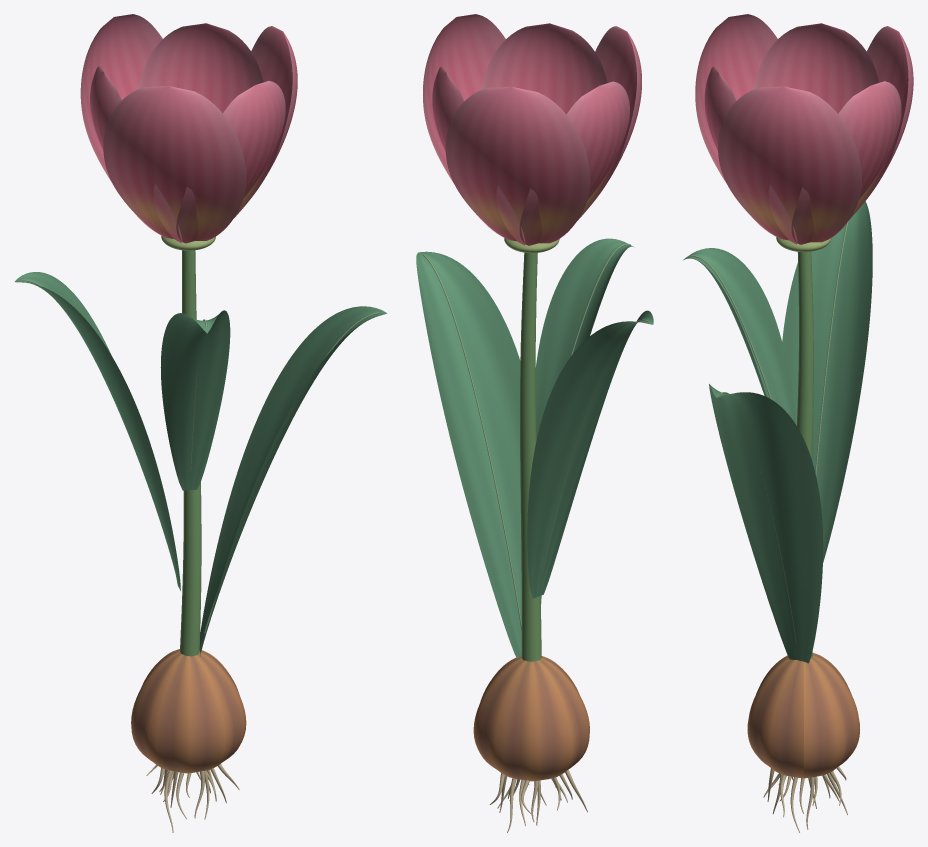
Rendered from tulipan.glb.
3 views of the same model, side by side, from view 1: azimuth 30°, elevation 25°; view 2: azimuth 150°, elevation 25°; view 3: azimuth 270°, elevation 25° (orthographic).
Parts seen in each view (by area): view 1: Vonkajší okvetný lístok 2, Cibuľa, List 1, List 3, Vnútorný okvetný lístok 3, List 2, Vonkajší okvetný lístok 3, Vnútorný okvetný lístok 1, Stonka, Vonkajší okvetný lístok 1, Vnútorný okvetný lístok 2; view 2: List 1, Vonkajší okvetný lístok 3, List 2, Cibuľa, Vnútorný okvetný lístok 1, List 3, Stonka, Vonkajší okvetný lístok 1, Vnútorný okvetný lístok 2, Vonkajší okvetný lístok 2, Vnútorný okvetný lístok 3, Žilnatina 1 (+1 smaller); view 3: List 1, Vonkajší okvetný lístok 1, List 2, Cibuľa, Vnútorný okvetný lístok 2, List 3, Vonkajší okvetný lístok 2, Vnútorný okvetný lístok 3, Vonkajší okvetný lístok 3, Stonka, Vnútorný okvetný lístok 1, Žilnatina 2 (+1 smaller).
Boxes of the visible parts, x1=… form: Vonkajší okvetný lístok 2: x1=103, y1=86, x2=246, y2=240; Cibuľa: x1=131, y1=649, x2=246, y2=773; List 1: x1=199, y1=306, x2=387, y2=656; List 3: x1=160, y1=310, x2=230, y2=490; Vnútorný okvetný lístok 3: x1=138, y1=23, x2=263, y2=113; List 2: x1=14, y1=272, x2=180, y2=590; Vonkajší okvetný lístok 3: x1=80, y1=14, x2=162, y2=231; Vnútorný okvetný lístok 1: x1=176, y1=81, x2=285, y2=243; Stonka: x1=180, y1=250, x2=201, y2=656; Vonkajší okvetný lístok 1: x1=215, y1=26, x2=297, y2=236; Vnútorný okvetný lístok 2: x1=90, y1=66, x2=182, y2=242; List 1: x1=416, y1=251, x2=541, y2=658; Vonkajší okvetný lístok 3: x1=445, y1=87, x2=590, y2=243; List 2: x1=527, y1=310, x2=653, y2=598; Cibuľa: x1=473, y1=656, x2=589, y2=781; Vnútorný okvetný lístok 1: x1=480, y1=23, x2=607, y2=114; List 3: x1=535, y1=238, x2=634, y2=438; Stonka: x1=520, y1=252, x2=541, y2=661; Vonkajší okvetný lístok 1: x1=423, y1=14, x2=505, y2=234; Vnútorný okvetný lístok 2: x1=519, y1=81, x2=629, y2=245; Vonkajší okvetný lístok 2: x1=559, y1=26, x2=641, y2=238; Vnútorný okvetný lístok 3: x1=432, y1=67, x2=525, y2=245; Žilnatina 1: x1=423, y1=254, x2=521, y2=630; List 1: x1=709, y1=384, x2=823, y2=663; Vonkajší okvetný lístok 1: x1=718, y1=86, x2=861, y2=242; List 2: x1=782, y1=201, x2=872, y2=562; Cibuľa: x1=747, y1=653, x2=859, y2=778; Vnútorný okvetný lístok 2: x1=752, y1=23, x2=879, y2=113; List 3: x1=683, y1=248, x2=795, y2=423; Vonkajší okvetný lístok 2: x1=695, y1=14, x2=777, y2=233; Vnútorný okvetný lístok 3: x1=791, y1=81, x2=901, y2=244; Vonkajší okvetný lístok 3: x1=832, y1=26, x2=913, y2=236; Stonka: x1=797, y1=251, x2=813, y2=657; Vnútorný okvetný lístok 1: x1=704, y1=66, x2=797, y2=244; Žilnatina 2: x1=815, y1=221, x2=848, y2=475.
Size of the model in its own units: 0.1656 by 0.3999 by 0.1088.
